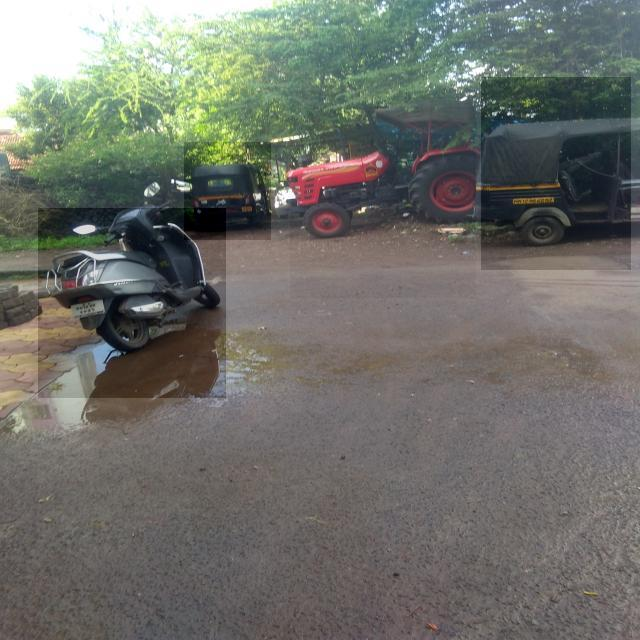Auto: (481, 77, 631, 270), (184, 142, 271, 240)
Bike: (38, 208, 226, 398)
Tractot: (290, 107, 476, 298)
